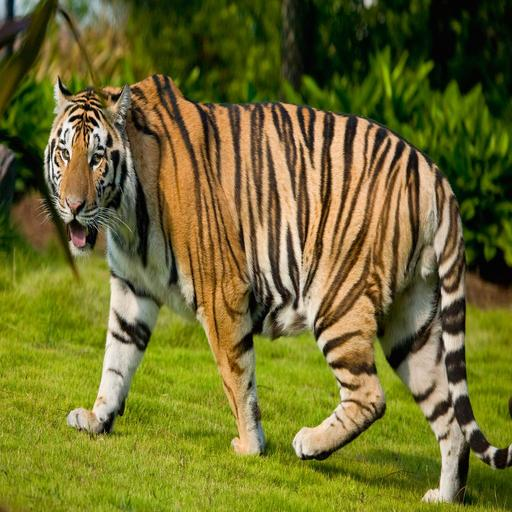Tiger: (43, 66, 512, 511)
